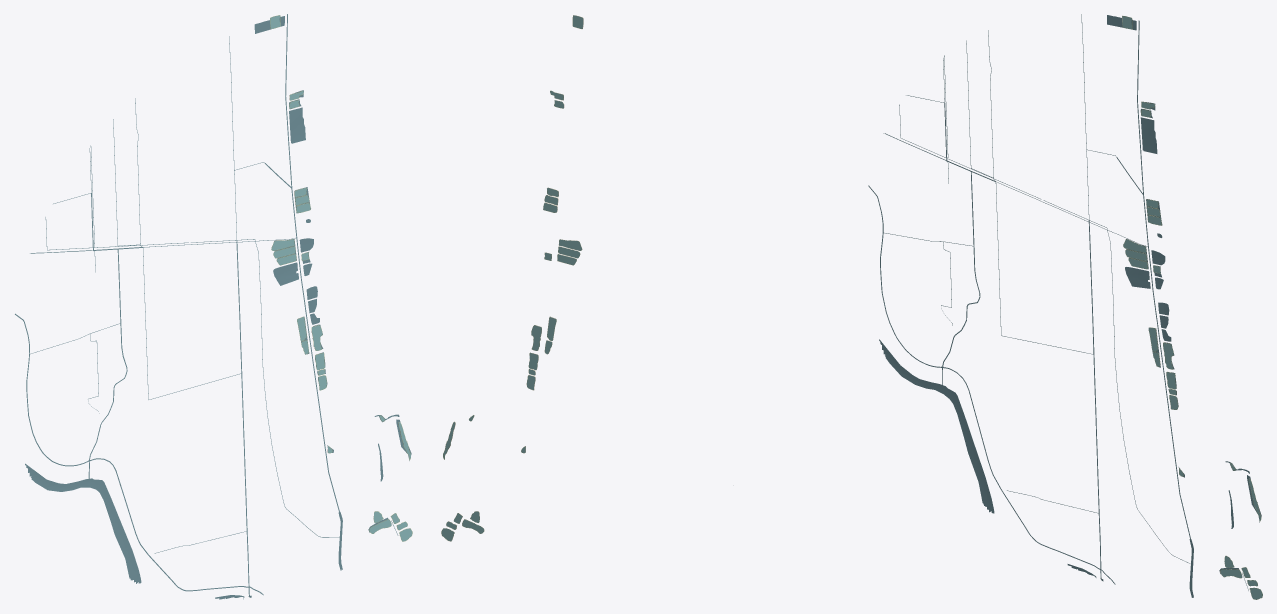
Rendered from context-near-water.glb.
3 renders of one model, left to right at view 1: azimuth 30°, elevation 25°; view 2: azimuth 150°, elevation 25°; view 3: azimuth 330°, elevation 25°, orthographic.
Visible parts, largest first — view 1: water-near--1--1, water-near--1-0, water-near-0-0, water-near-0--1, fishponds-water-0--1, fishponds-water-0-0; view 2: fishponds-water-0--1, fishponds-water-0-0; view 3: water-near--1--1, water-near--1-0, water-near-0-0, water-near-0--1, fishponds-water-0--1, fishponds-water-0-0.
Boxes of the visible parts, box(x1,y1,x2,y2) form: water-near--1--1: box(25, 309, 283, 599); water-near--1-0: box(15, 16, 283, 366); water-near-0-0: box(282, 14, 317, 297); water-near-0--1: box(283, 294, 411, 570); fishponds-water-0--1: box(297, 317, 410, 459); fishponds-water-0-0: box(273, 188, 310, 265); fishponds-water-0--1: box(443, 317, 556, 459); fishponds-water-0-0: box(543, 188, 579, 264); water-near--1--1: box(879, 244, 1134, 584); water-near--1-0: box(868, 14, 1135, 299); water-near-0-0: box(1134, 20, 1169, 312); water-near-0--1: box(1135, 309, 1261, 597); fishponds-water-0--1: box(1148, 327, 1260, 520); fishponds-water-0-0: box(1125, 199, 1161, 273).
Bounding box in the file's own units: 2185 × 3022 × 3.52.
